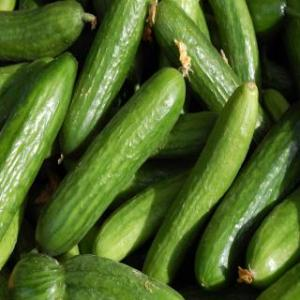cucumber: (34, 68, 188, 258), (139, 82, 259, 284), (194, 89, 300, 291), (150, 0, 270, 150), (0, 47, 80, 253), (57, 0, 151, 163), (6, 250, 184, 300), (0, 0, 88, 60)
